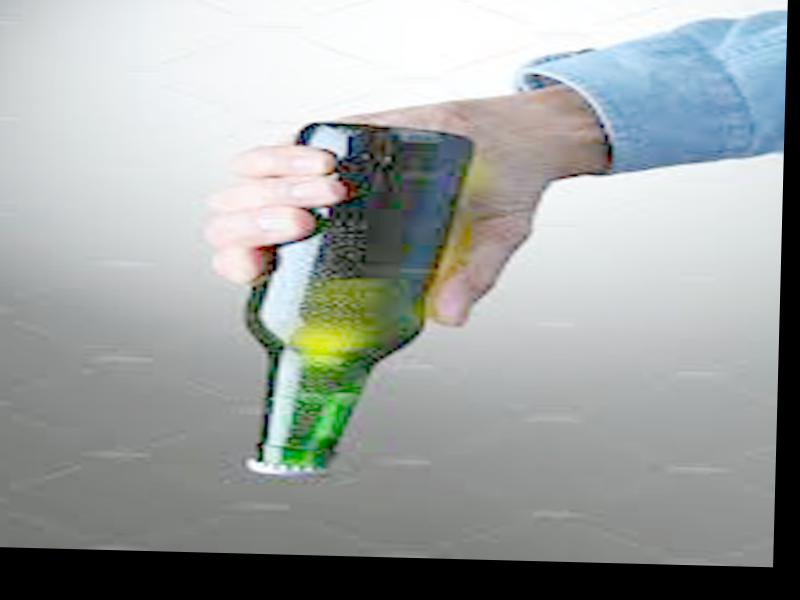Beer: (242, 118, 478, 484)
